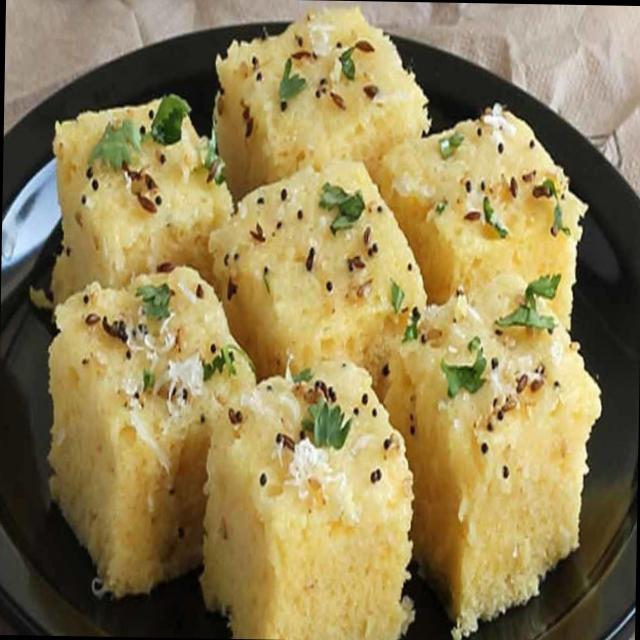dhokla: (55, 54, 554, 612)
